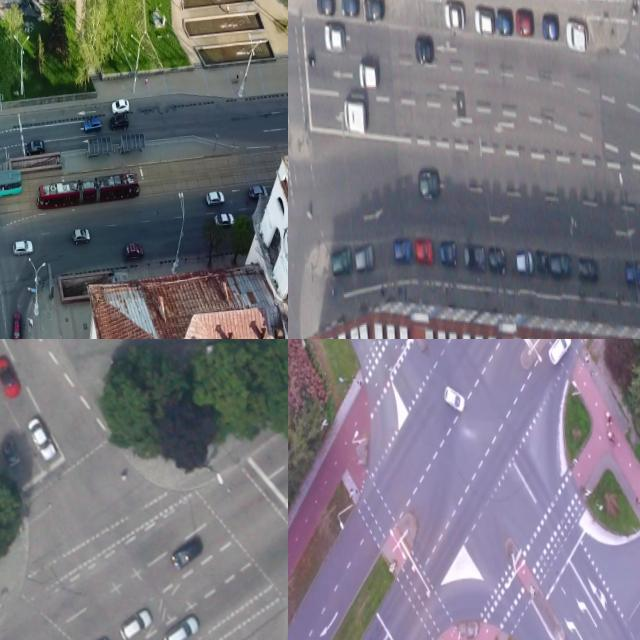UAI: (25, 413, 58, 463), (167, 534, 203, 571), (115, 606, 154, 640), (159, 612, 202, 640), (0, 352, 21, 400), (564, 19, 588, 53), (546, 339, 573, 366), (417, 168, 440, 199), (443, 384, 466, 415), (577, 255, 599, 287), (548, 249, 572, 278), (331, 247, 353, 278), (463, 241, 485, 272), (358, 59, 379, 90), (0, 436, 21, 467), (487, 245, 507, 277), (323, 24, 345, 53), (443, 1, 465, 30), (354, 244, 375, 273), (494, 5, 513, 37), (540, 11, 560, 41), (515, 6, 535, 36), (514, 247, 534, 277), (473, 7, 494, 34), (414, 35, 434, 63), (623, 256, 640, 288), (393, 237, 413, 264), (438, 239, 457, 267), (414, 238, 433, 265), (362, 0, 384, 21), (24, 138, 46, 156), (535, 248, 549, 276), (124, 241, 144, 260), (108, 113, 129, 131), (12, 239, 34, 256), (82, 116, 102, 134), (204, 188, 225, 205), (72, 227, 91, 245), (339, 0, 358, 18), (10, 311, 22, 339), (214, 213, 235, 229), (314, 0, 336, 15), (249, 184, 268, 201), (110, 98, 130, 113)
car: (35, 171, 142, 210), (0, 168, 22, 199)
harvester: (342, 94, 367, 133)
